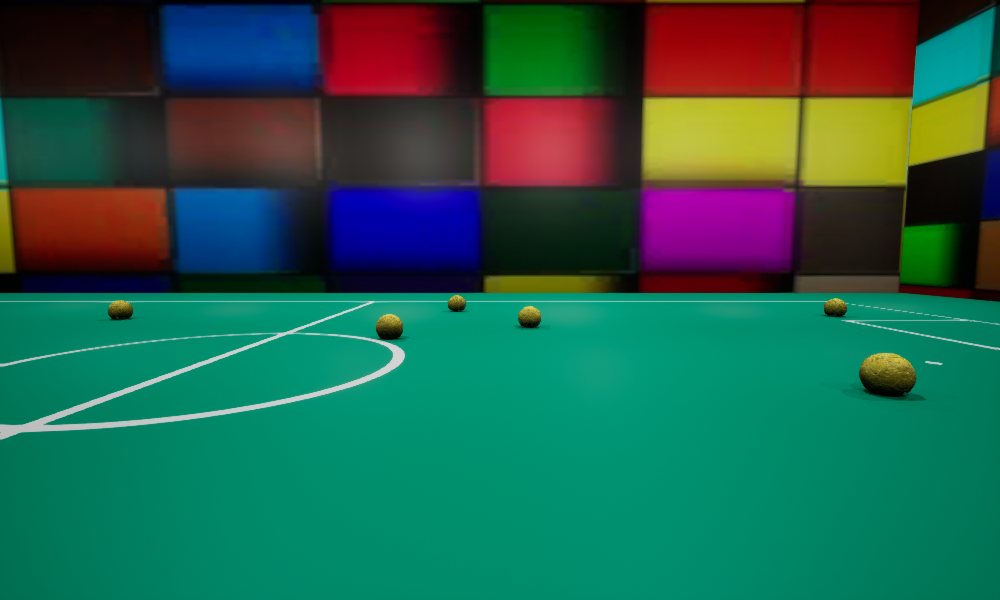b: (859, 353, 916, 396), (376, 314, 402, 338), (518, 306, 540, 327), (108, 300, 132, 319), (824, 298, 846, 316), (448, 295, 465, 311)
